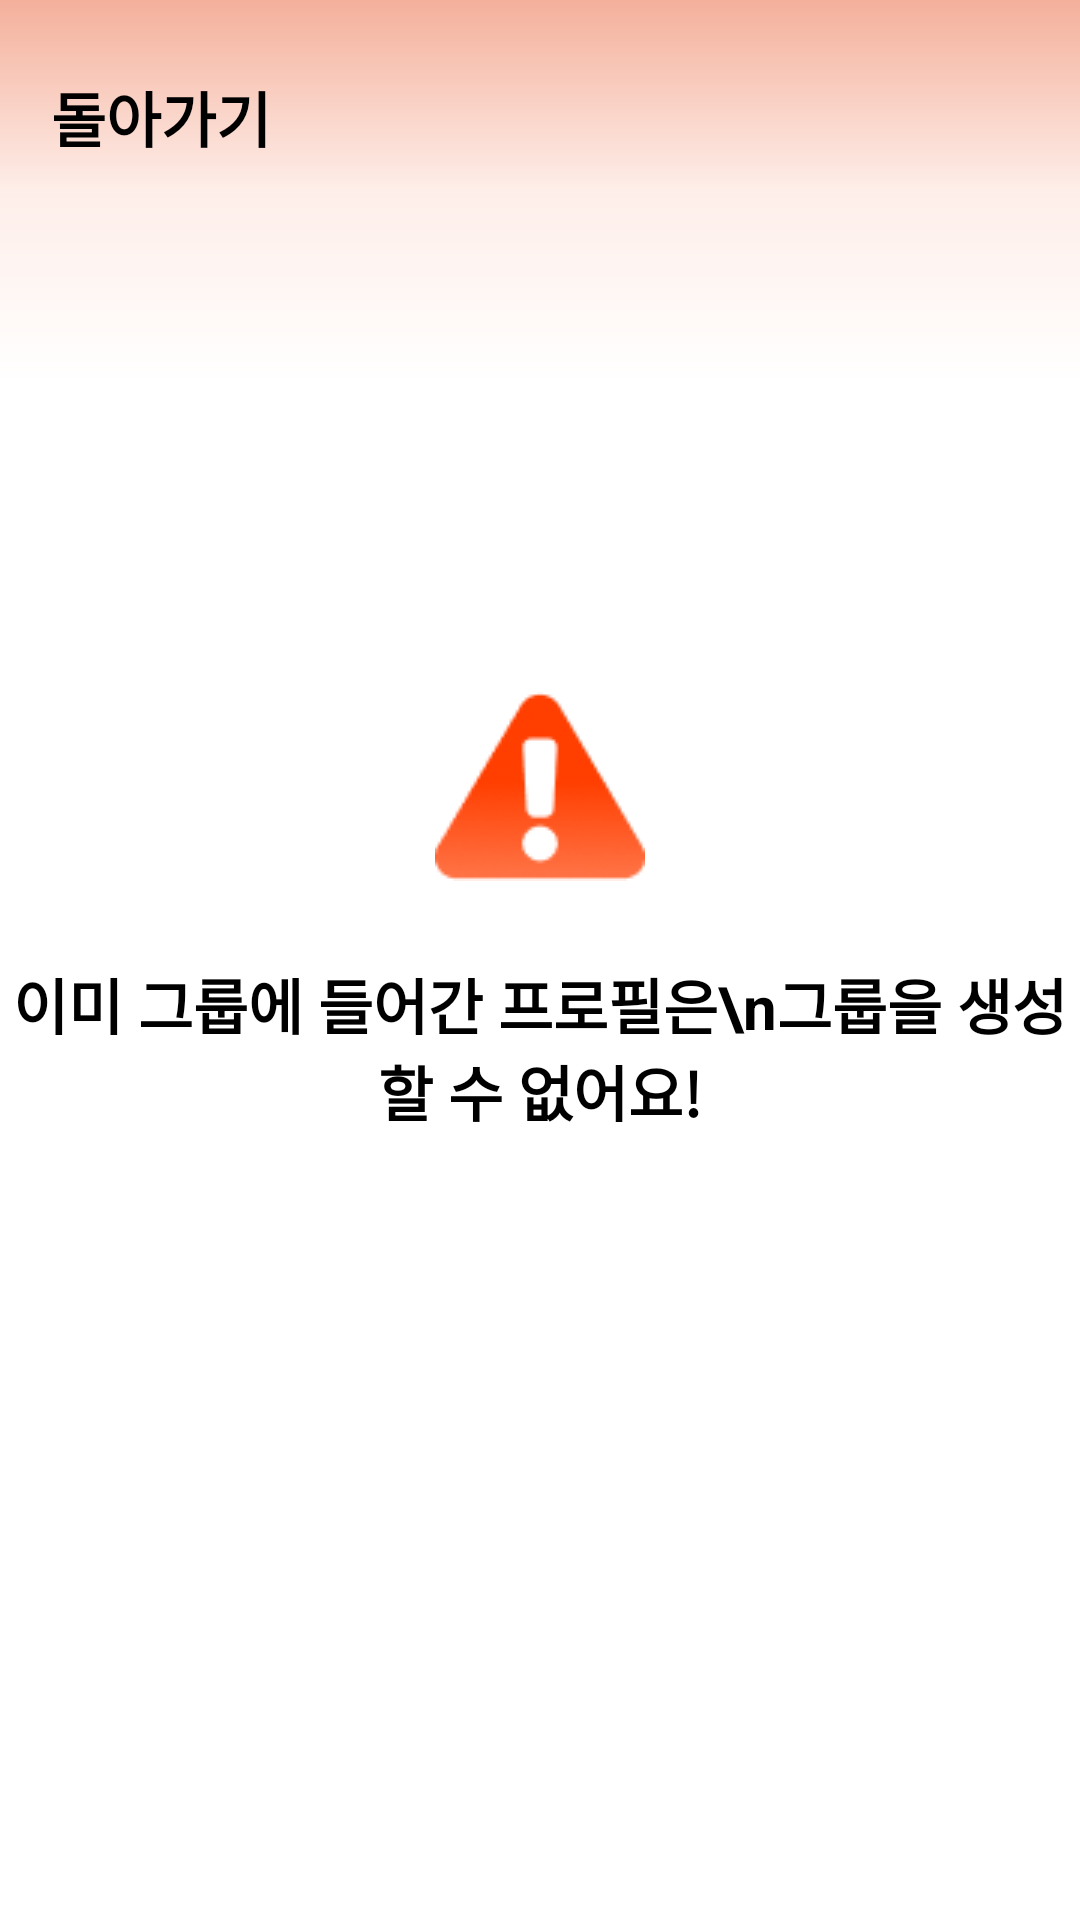

Named icons in this screenshot (1080w x 1920h) and their centers, (x,y):
exclamation mark: (540,786)
